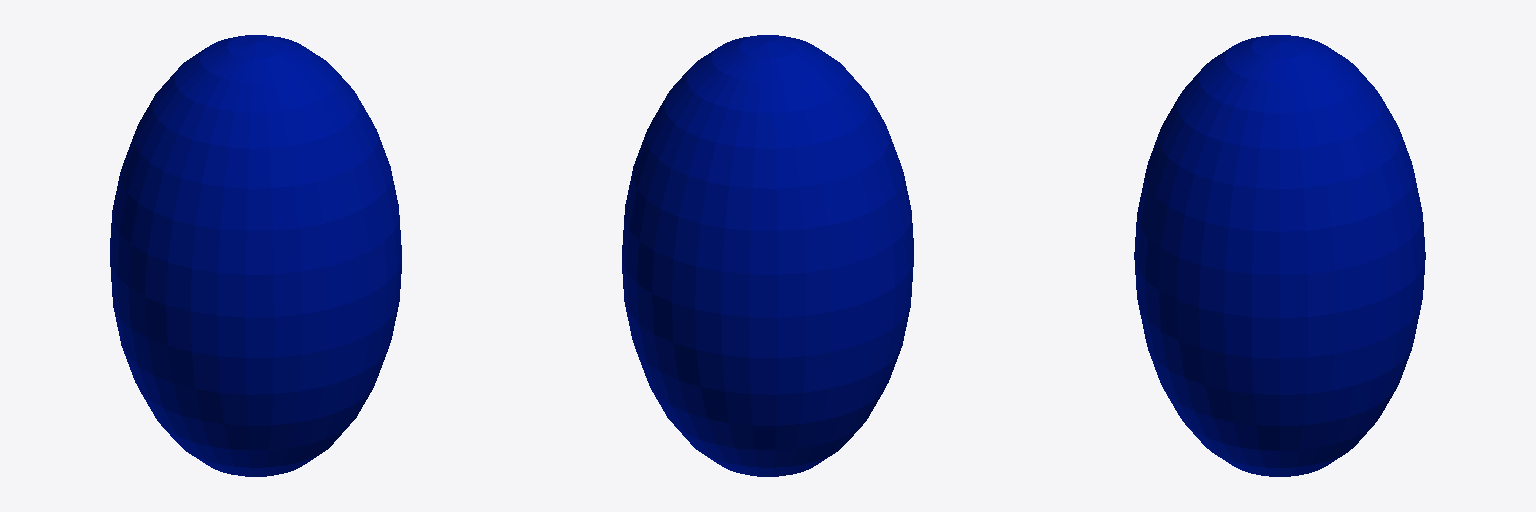
The model's file is moya_freg_b.obj.
3 views of the same model, side by side, from view 1: azimuth 30°, elevation 25°; view 2: azimuth 150°, elevation 25°; view 3: azimuth 270°, elevation 25° (orthographic).
Visible parts, largest first — view 1: Sphere_Sphere.005_Sphere_Sphere.006; view 2: Sphere_Sphere.005_Sphere_Sphere.006; view 3: Sphere_Sphere.005_Sphere_Sphere.006.
Boxes of the visible parts, x1,y1,x2,y2 form: Sphere_Sphere.005_Sphere_Sphere.006: [110, 35, 401, 476]; Sphere_Sphere.005_Sphere_Sphere.006: [622, 35, 913, 476]; Sphere_Sphere.005_Sphere_Sphere.006: [1134, 35, 1425, 476].
Bounding box in the file's own units: 0.6891 × 1.1 × 0.6826.